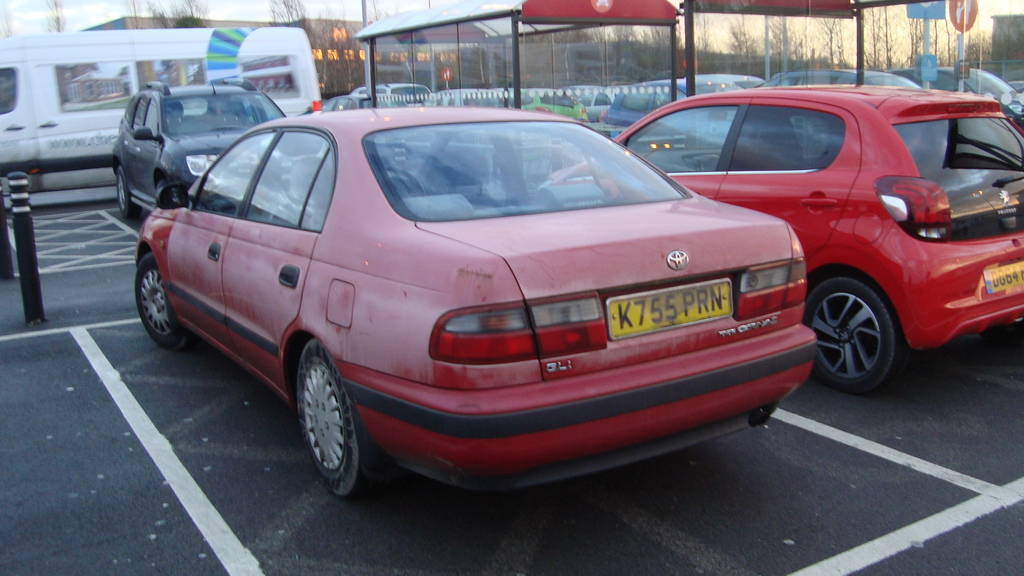license plate: (600, 302, 738, 343)
